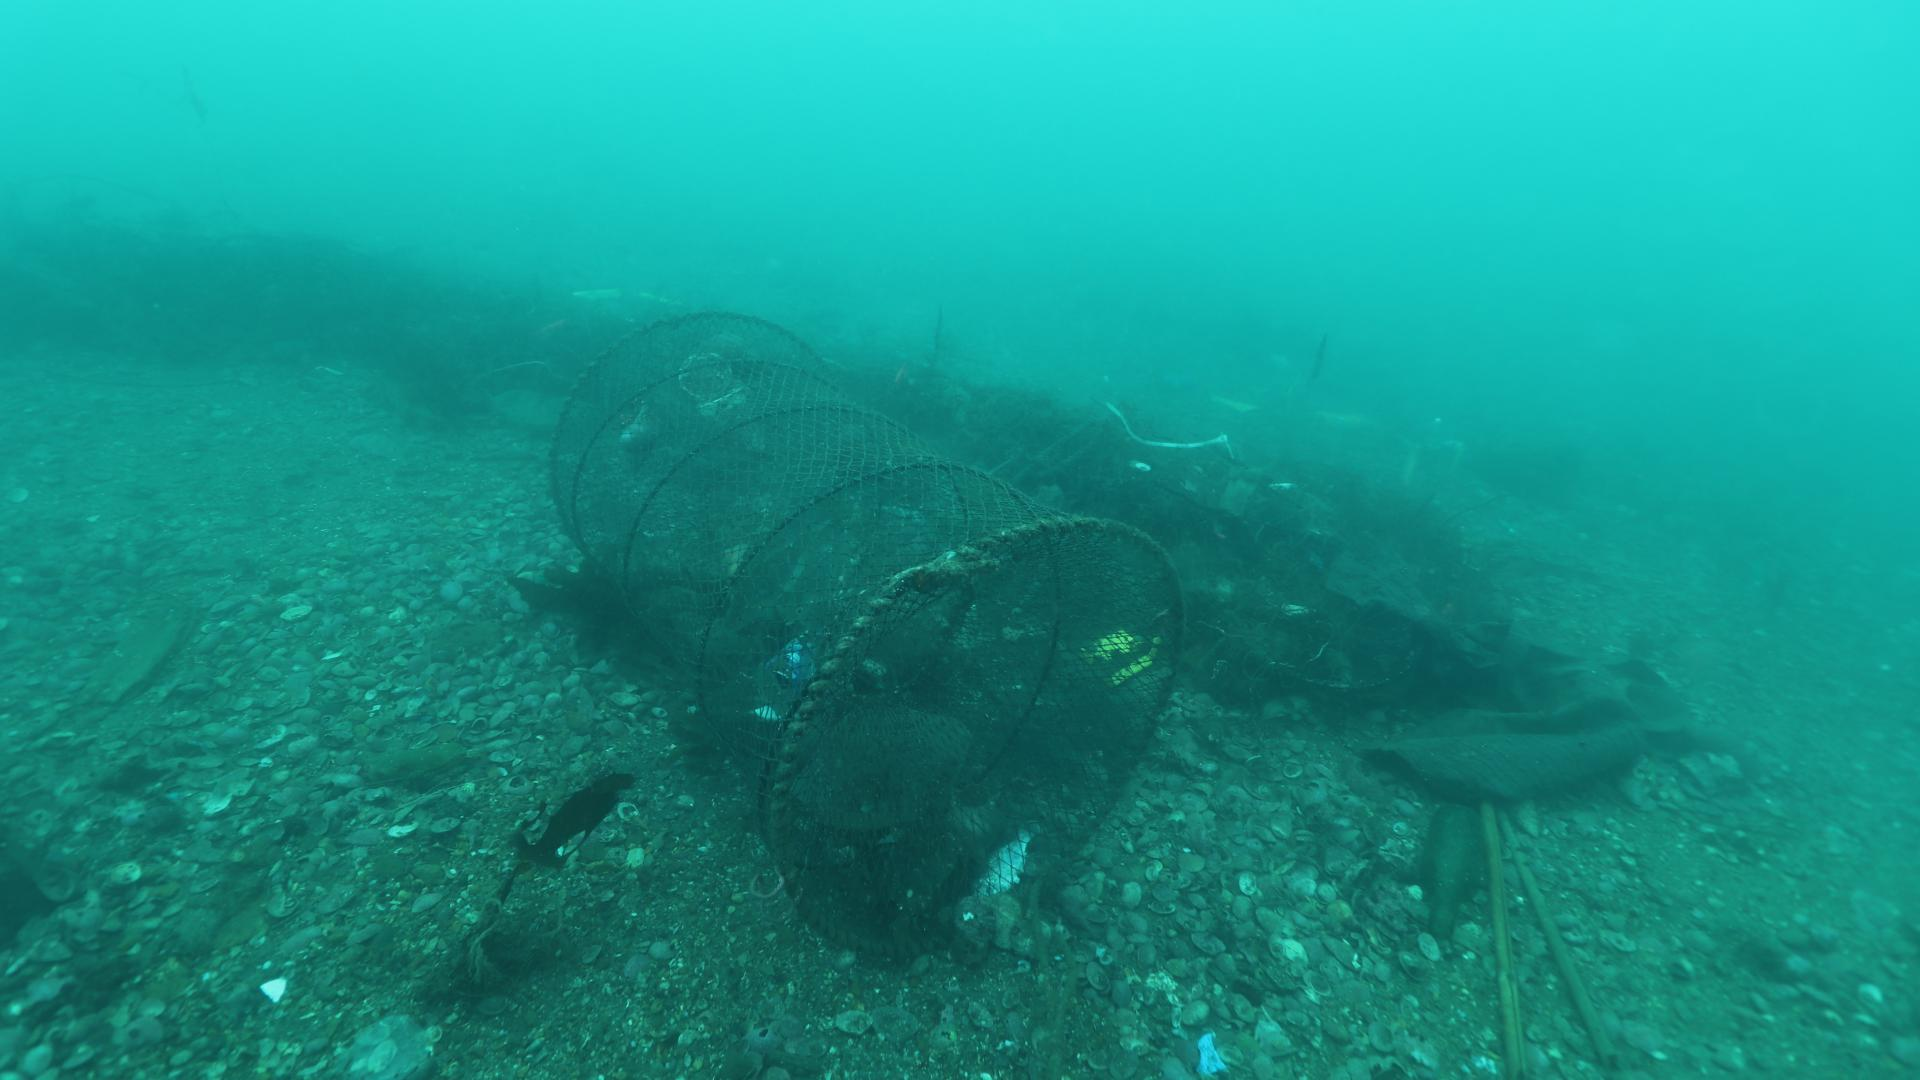spring fish trap: (549, 309, 1184, 959)
